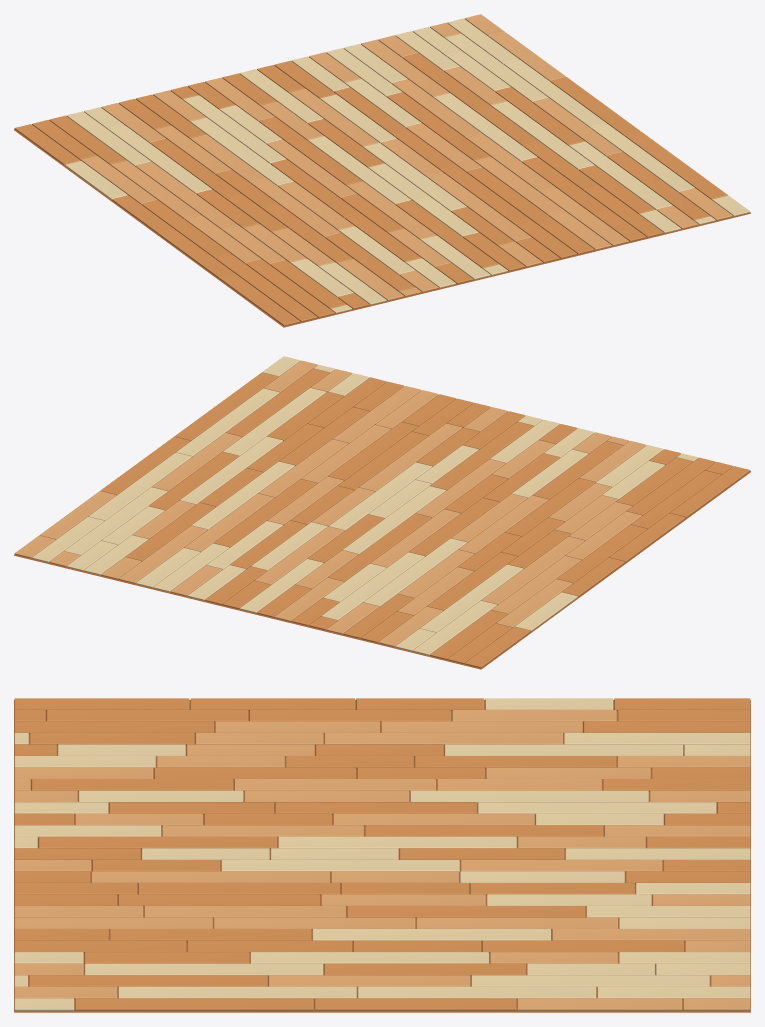
The model's file is UnitBFloor.fbx.
3 views of the same model, one above another, from view 1: azimuth 30°, elevation 25°; view 2: azimuth 150°, elevation 25°; view 3: azimuth 270°, elevation 25° (orthographic). The views are drawn at different scales.
Parts seen in each view (by area): view 1: UnitBFloor mesh; view 2: UnitBFloor mesh; view 3: UnitBFloor mesh.
Boxes of the visible parts, x1,y1,x2,y2 form: UnitBFloor mesh: [14, 14, 750, 327]; UnitBFloor mesh: [14, 356, 750, 669]; UnitBFloor mesh: [14, 698, 750, 1012].
Bounding box in the file's own units: 10 × 0.05 × 10.
